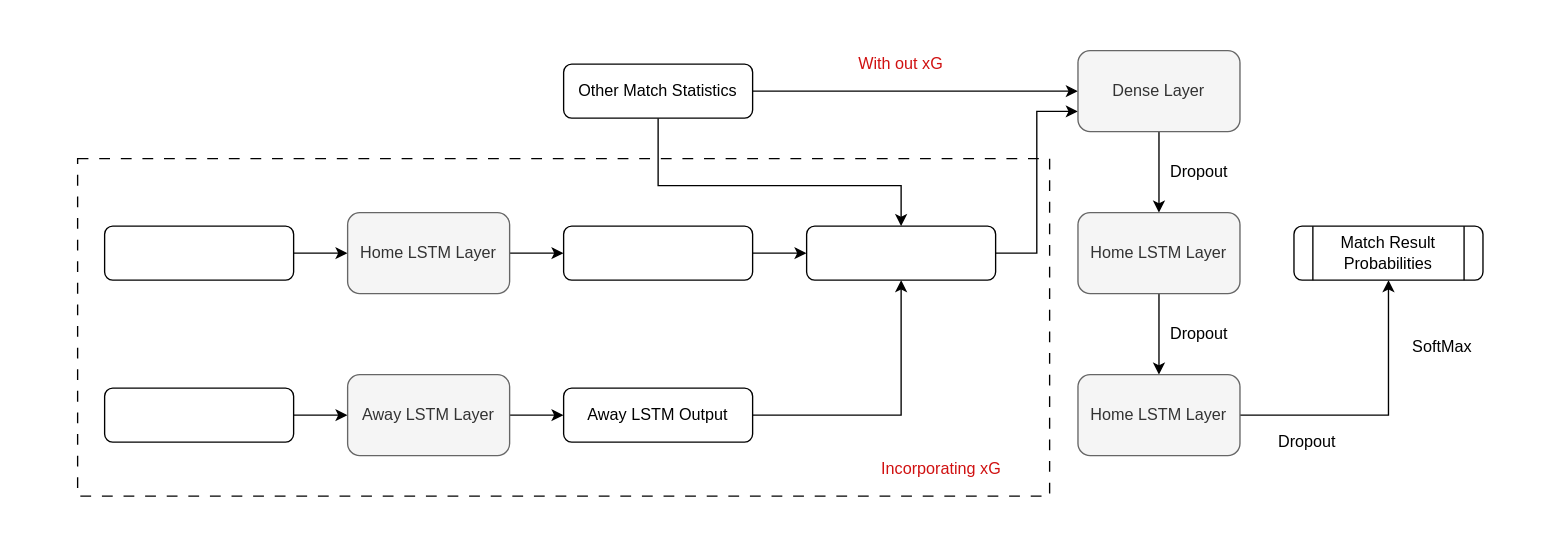
The diagram is 1559 pixels wide and 559 high, and some of its shapes have lost their labels. The shapes that lost their labels are listed below. From the top down, each one's centre as x and y in pixels, then its label:
(198,252): Home xG Vector
(657,252): Home LSTM Output
(900,252): Combined Input
(198,414): Away xG Vector
